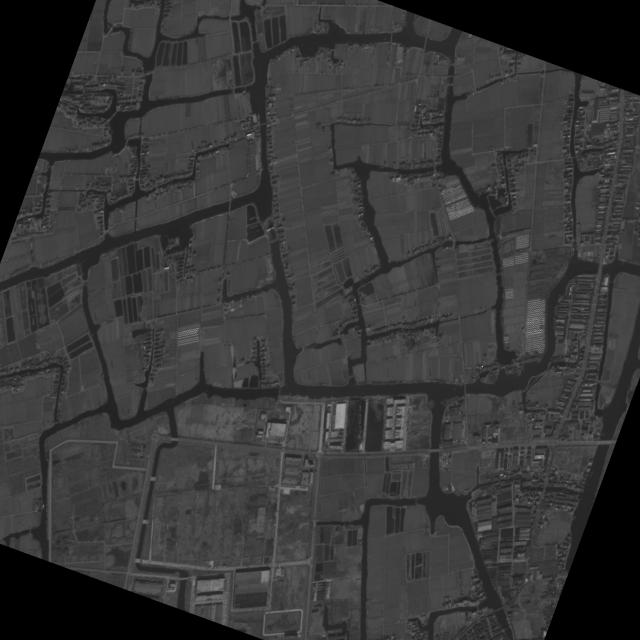storage-tank: (499, 555, 501, 557), (508, 554, 510, 556), (509, 554, 511, 556), (500, 555, 501, 557), (501, 555, 502, 557), (506, 555, 508, 556), (510, 554, 511, 556), (499, 556, 500, 558), (501, 556, 502, 558), (502, 556, 503, 558), (503, 556, 504, 558), (504, 556, 505, 558), (481, 536, 482, 538), (506, 556, 507, 558), (507, 556, 509, 557), (506, 557, 507, 559), (507, 557, 508, 559), (508, 557, 509, 559), (509, 557, 510, 559), (510, 557, 511, 559), (502, 555, 503, 556), (503, 555, 504, 556), (504, 555, 505, 556), (507, 555, 508, 556), (500, 557, 501, 558), (499, 558, 500, 559), (478, 535, 479, 536), (479, 535, 480, 536), (479, 535, 480, 536), (480, 535, 481, 536), (481, 535, 482, 536), (478, 536, 479, 537), (479, 536, 480, 537), (480, 536, 481, 537), (481, 536, 482, 537), (478, 537, 479, 538), (479, 537, 480, 538), (479, 537, 480, 538), (480, 537, 481, 538), (481, 534, 482, 535), (480, 534, 481, 535), (479, 534, 480, 535), (508, 556, 509, 557), (500, 558, 501, 559), (501, 558, 502, 559), (502, 558, 503, 559), (503, 558, 504, 559), (504, 558, 505, 559), (509, 556, 510, 557), (479, 534, 480, 535), (510, 556, 511, 557), (478, 534, 479, 535), (479, 536, 479, 537)
